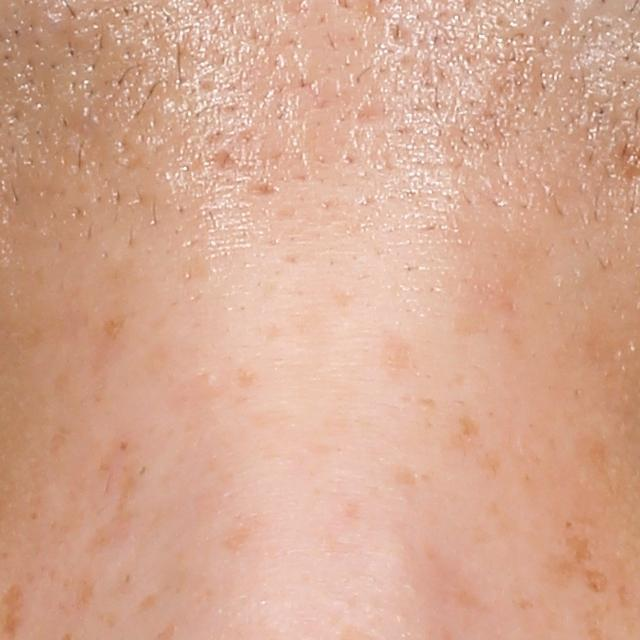atrophic_scar: (212, 148, 247, 176), (249, 182, 287, 201)
melasma: (75, 458, 144, 556), (567, 425, 619, 483), (129, 588, 167, 624), (222, 517, 261, 552), (560, 535, 597, 571), (98, 309, 133, 346), (579, 565, 612, 598), (71, 575, 98, 613), (479, 447, 510, 479), (453, 415, 479, 450), (615, 581, 636, 614)
